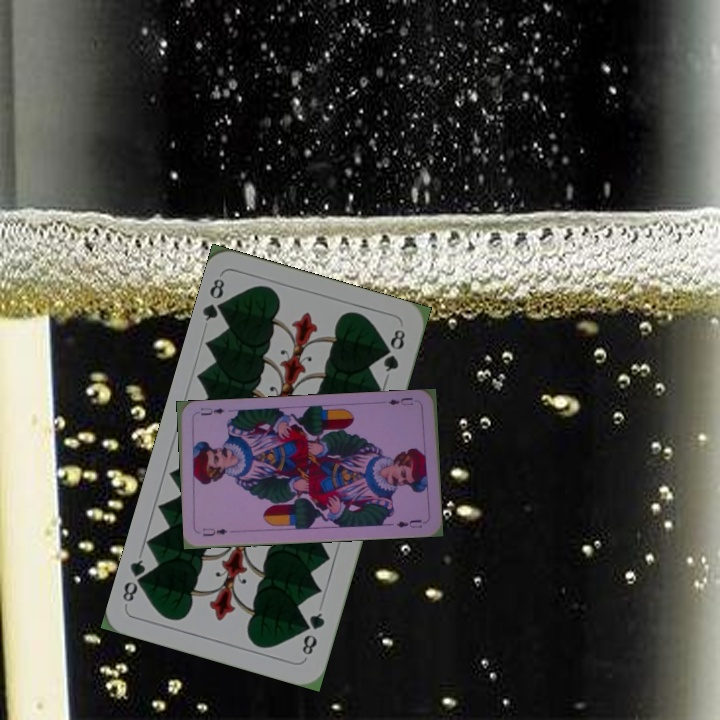EU: (384, 393, 415, 408), (199, 524, 230, 539)
G8: (199, 274, 232, 324), (298, 608, 328, 658)
